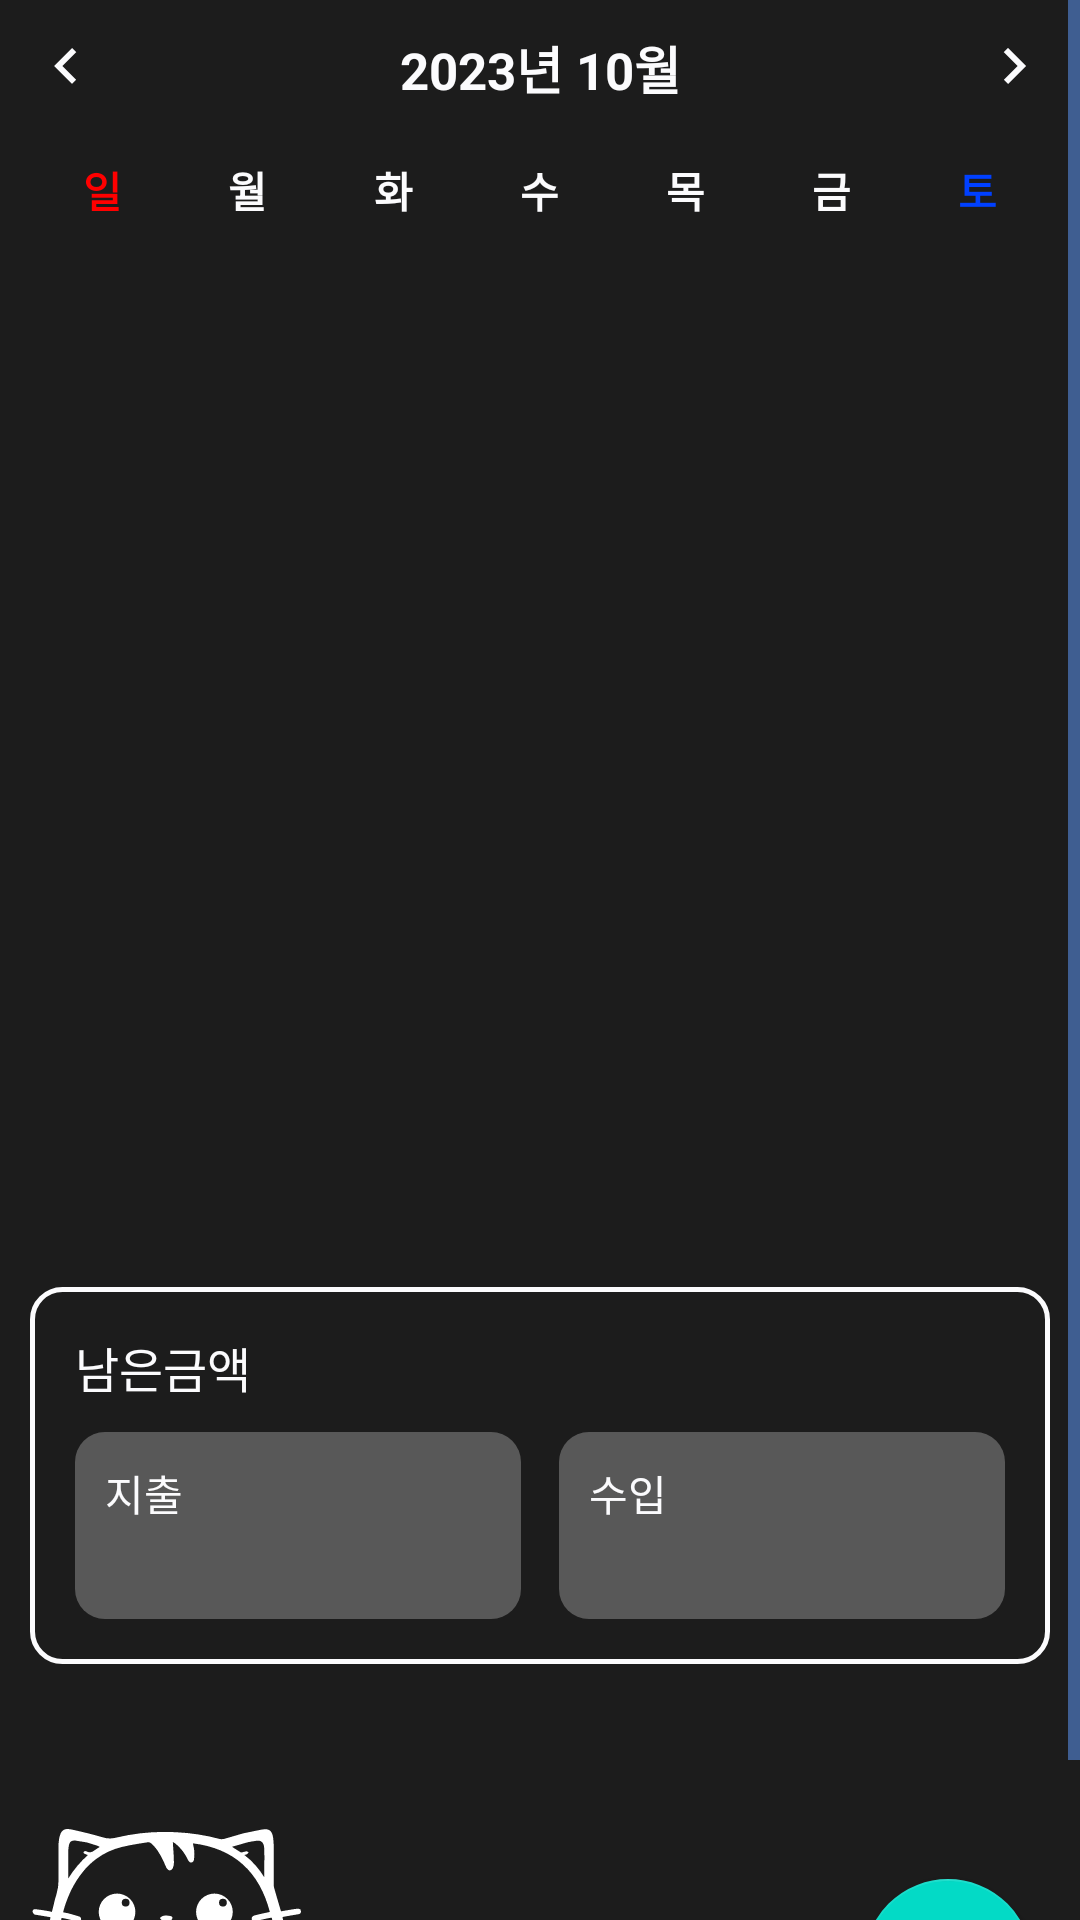

Icons on this 1080 × 1920 Android screen, each with the point to tap as (x=x, y=y):
calendar arrow left: (x=65, y=66)
calendar arrow right: (x=1015, y=66)
